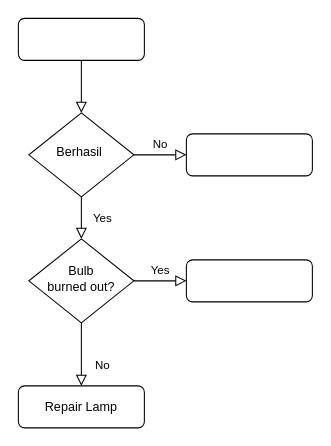
The diagram is 331 pixels wide and 446 high, and some of its shapes have lost their labels. Each missing label, with the centre of its shape:
"Plug in lamp" belongs at point (248, 154).
"Replace Bulb" belongs at point (248, 280).
